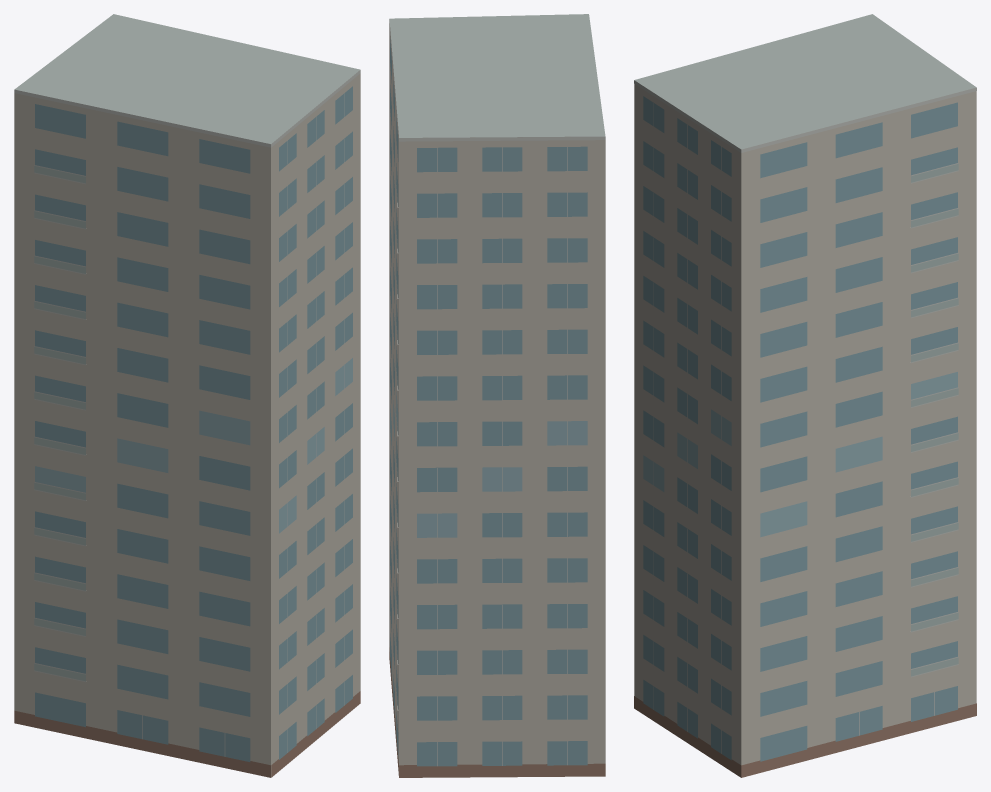
Rendered from survey-upis-32966390.glb.
3 views of the same model, side by side, from view 1: azimuth 30°, elevation 25°; view 2: azimuth 150°, elevation 25°; view 3: azimuth 270°, elevation 25° (orthographic).
Visible parts, largest first — view 1: survey-upis-32966390.tmp; view 2: survey-upis-32966390.tmp; view 3: survey-upis-32966390.tmp.
Boxes of the visible parts, <box> form: survey-upis-32966390.tmp: <box>14,14,360,777</box>; survey-upis-32966390.tmp: <box>389,14,605,777</box>; survey-upis-32966390.tmp: <box>634,14,976,777</box>.
Bounding box in the file's own units: 20.27 × 43.8 × 21.66.
